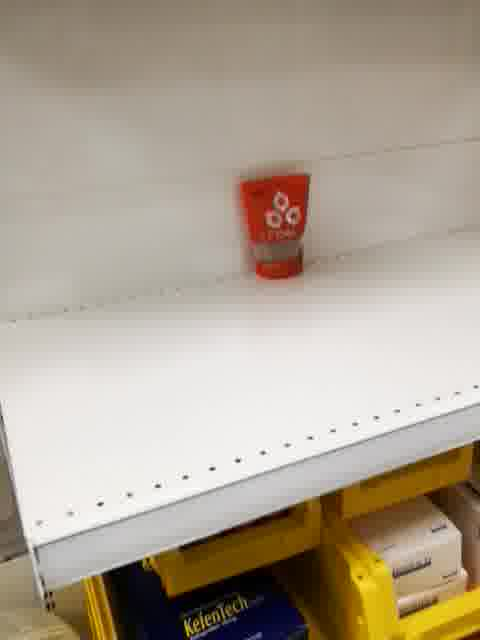whitechia: (239, 170, 312, 280)
